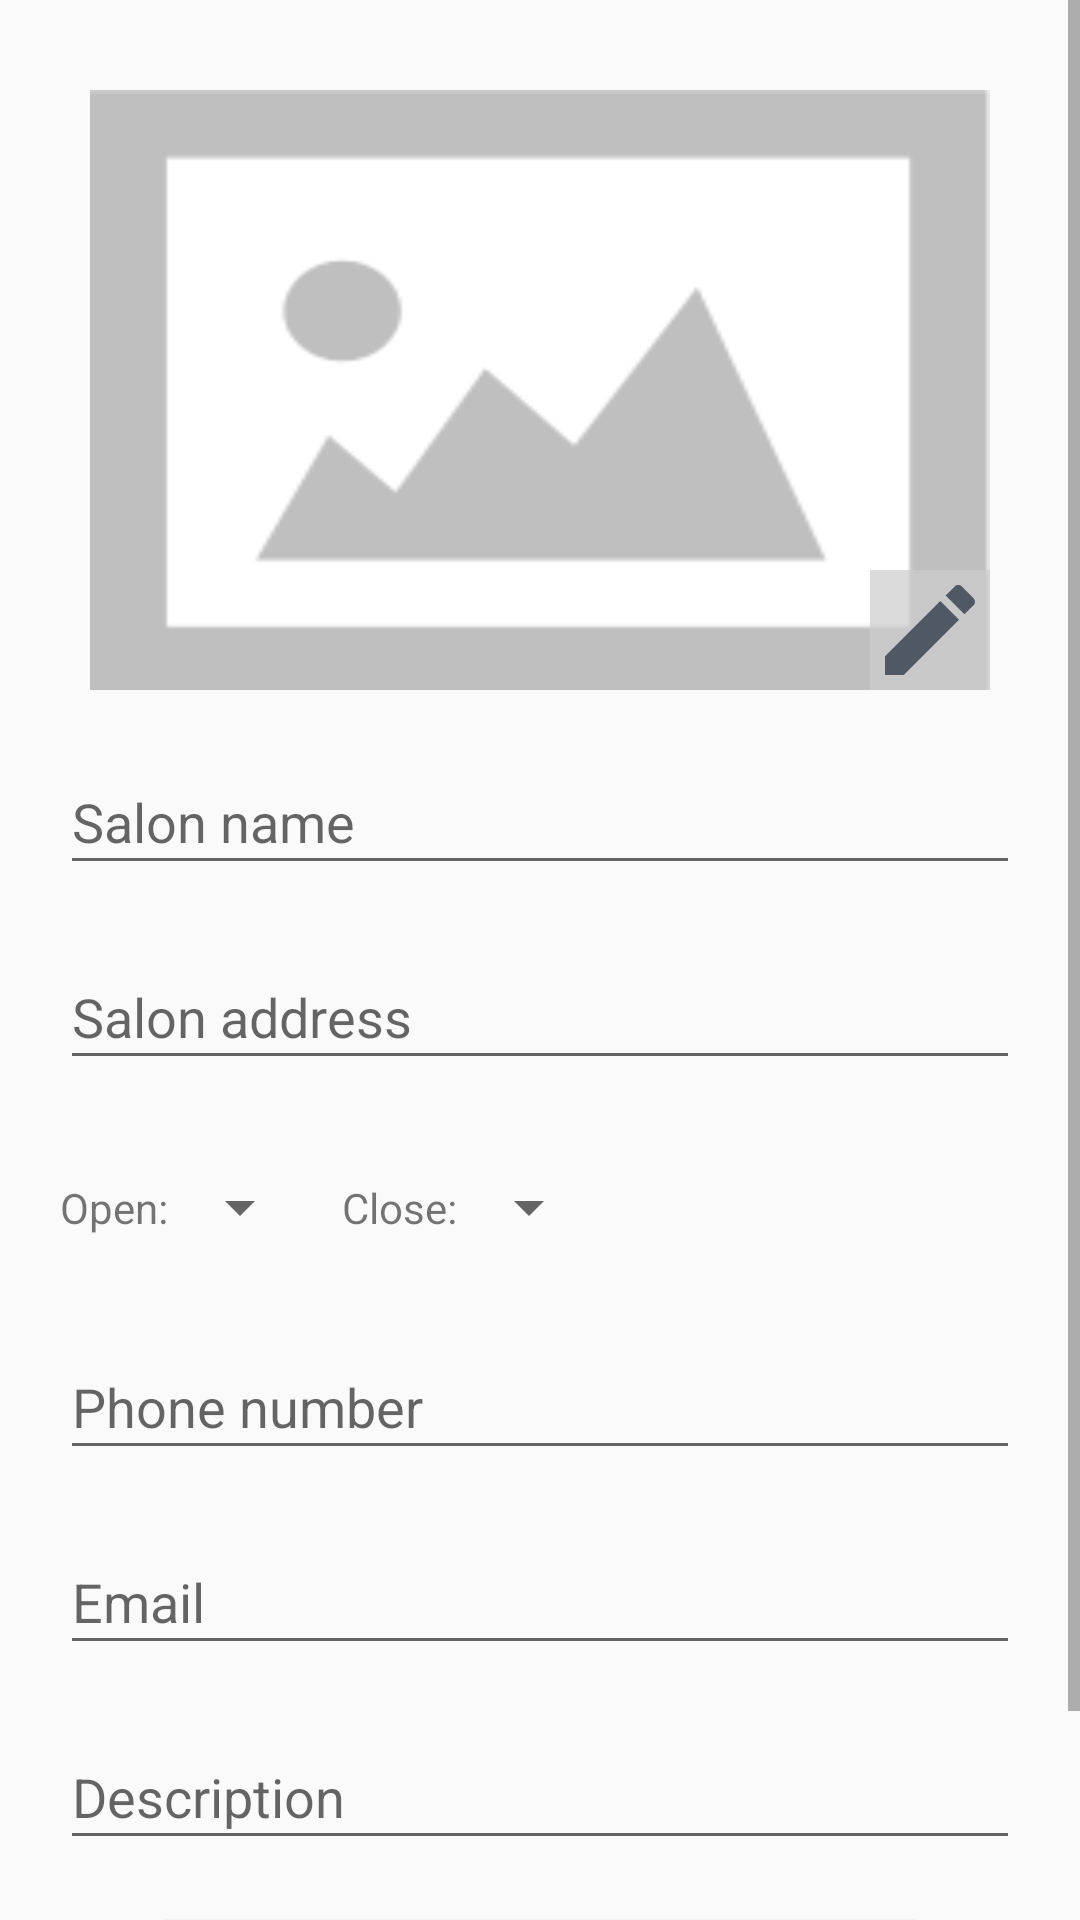

Icons on this 1080 × 1920 Android screen, each with its box as BBox(x1, y1, x2, y2):
edit: BBox(870, 570, 990, 690)
